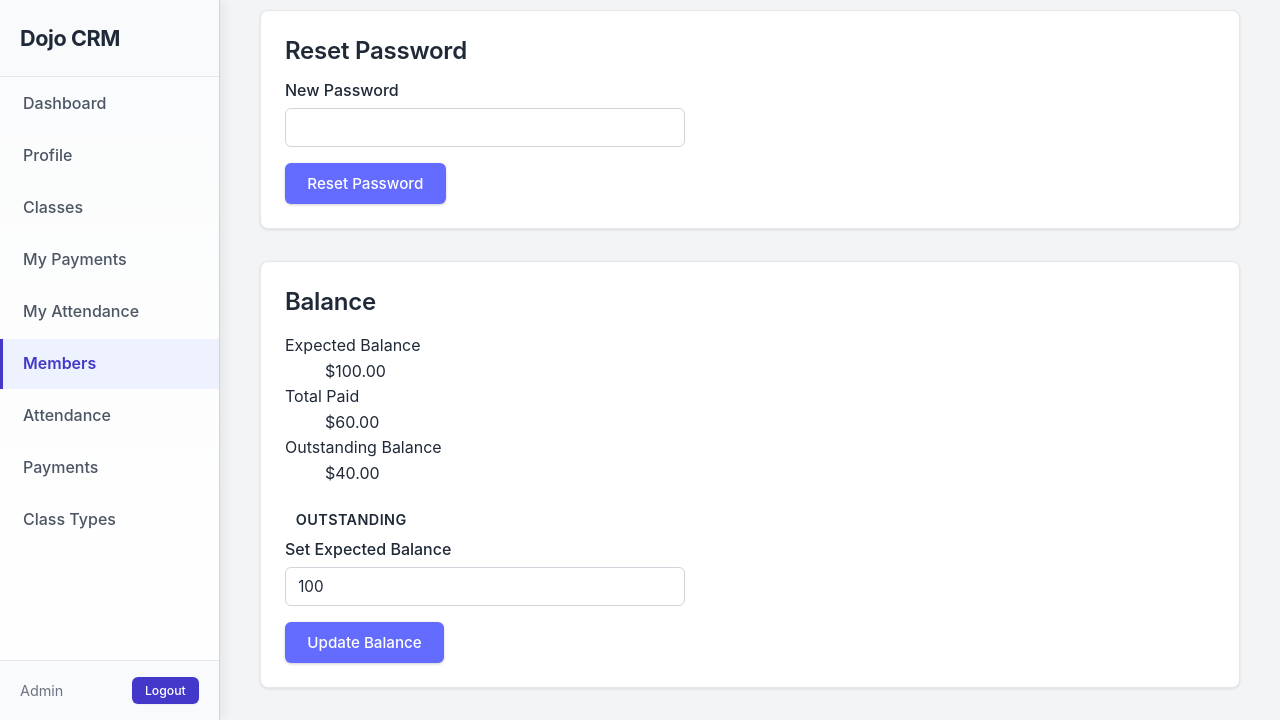
Scenario: MemberDetail › handles balance update
(page scrolled)
Replace the text in the number field labelled "Set Expected Balance" with "200" at (485, 586), box [285, 567, 685, 606]
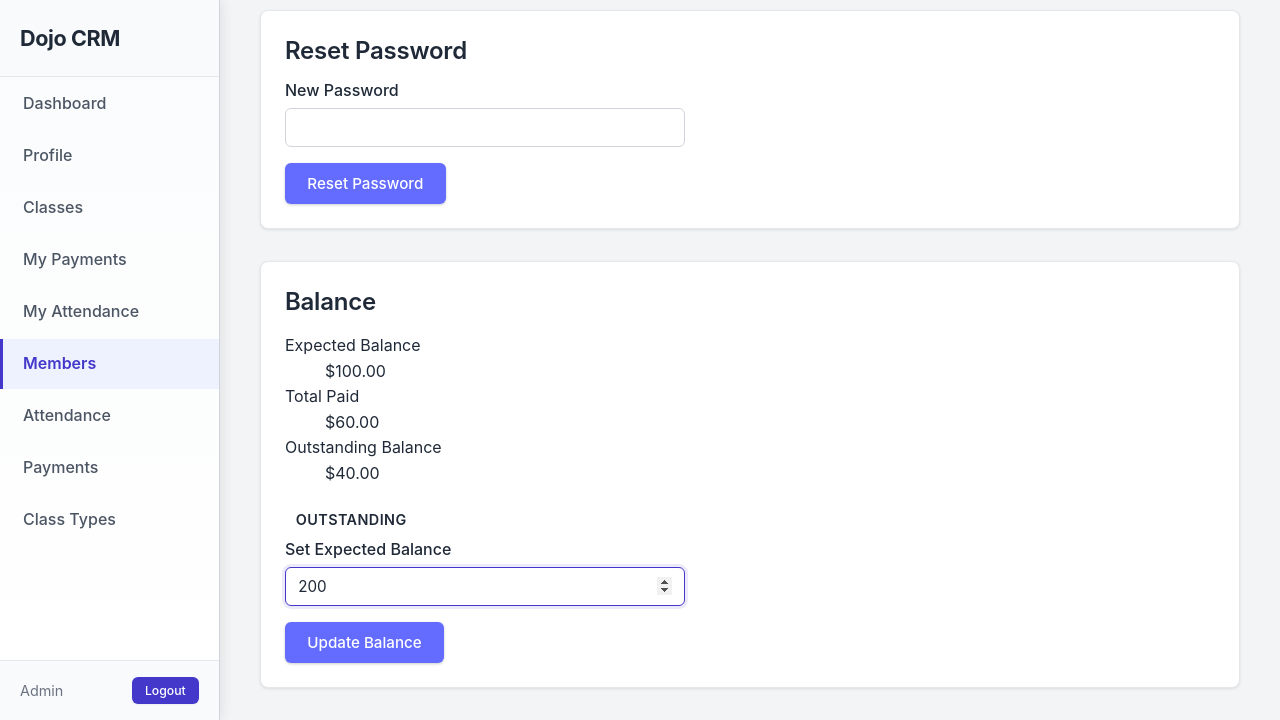
Click the button "Update Balance" at (364, 642), box [285, 622, 444, 663]
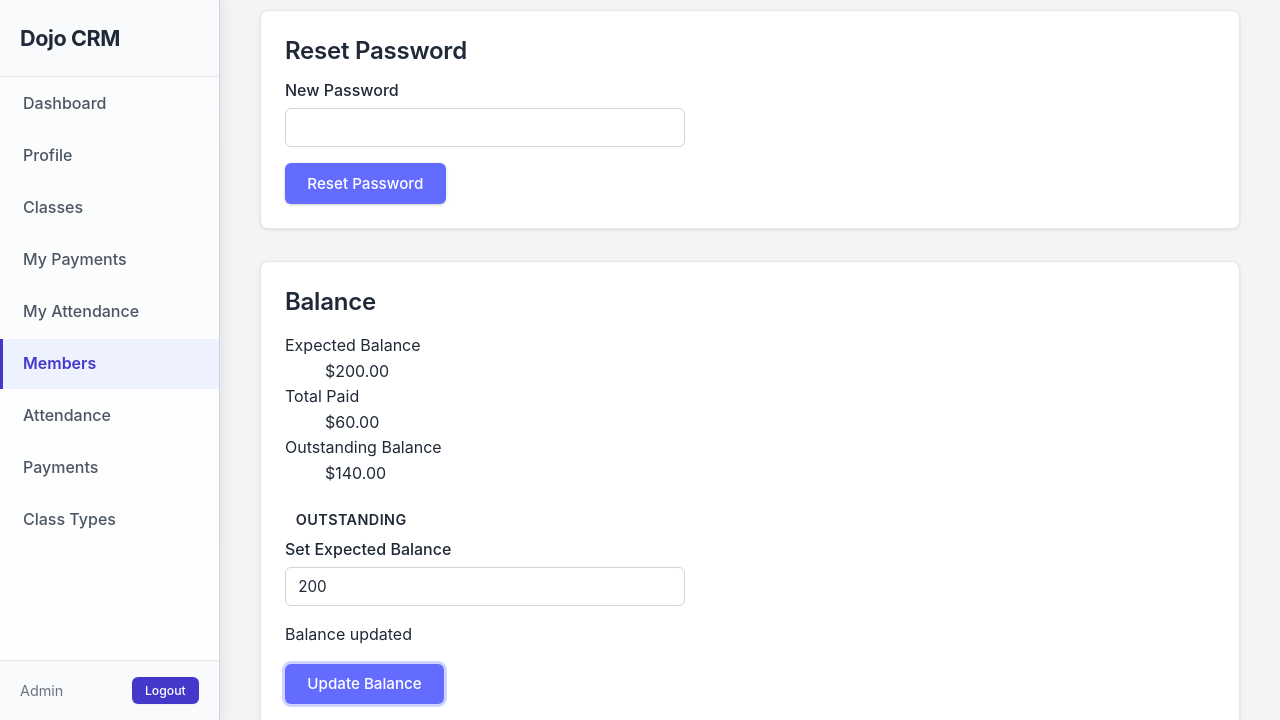
Result: the text "Balance updated" is shown at [285, 624, 412, 644]
Result: the text "$200.00" is shown at [325, 361, 389, 381]
